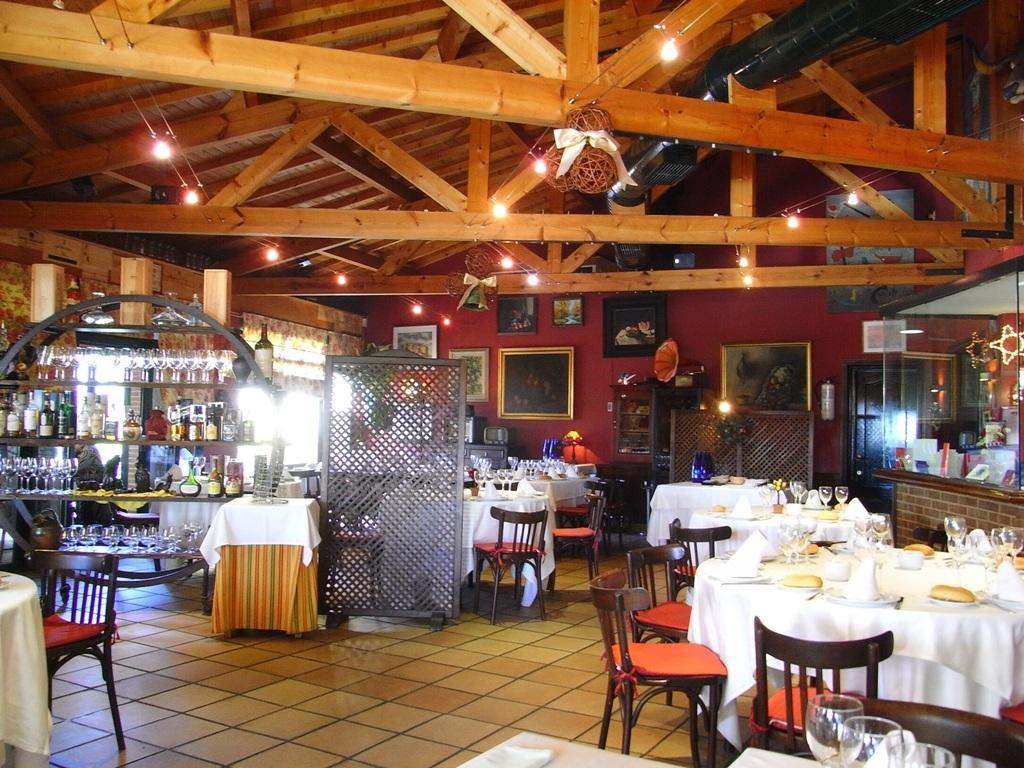Chair: (0, 460, 1023, 767), (605, 573, 749, 762)
